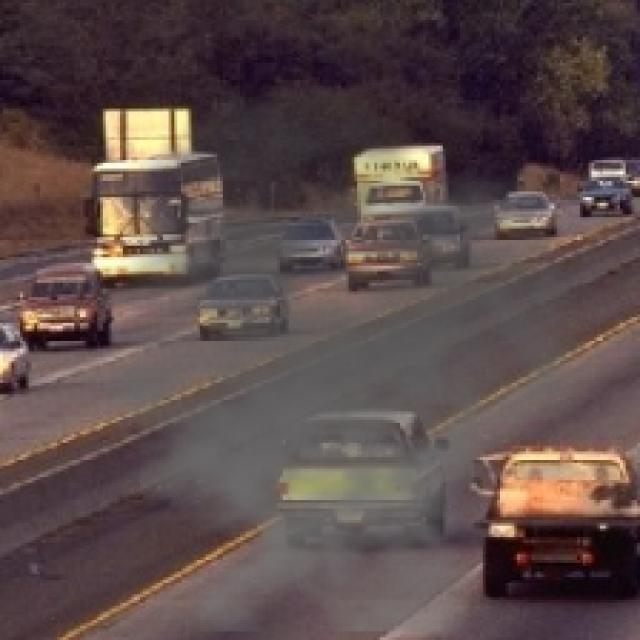Smoke: (37, 83, 606, 632)
